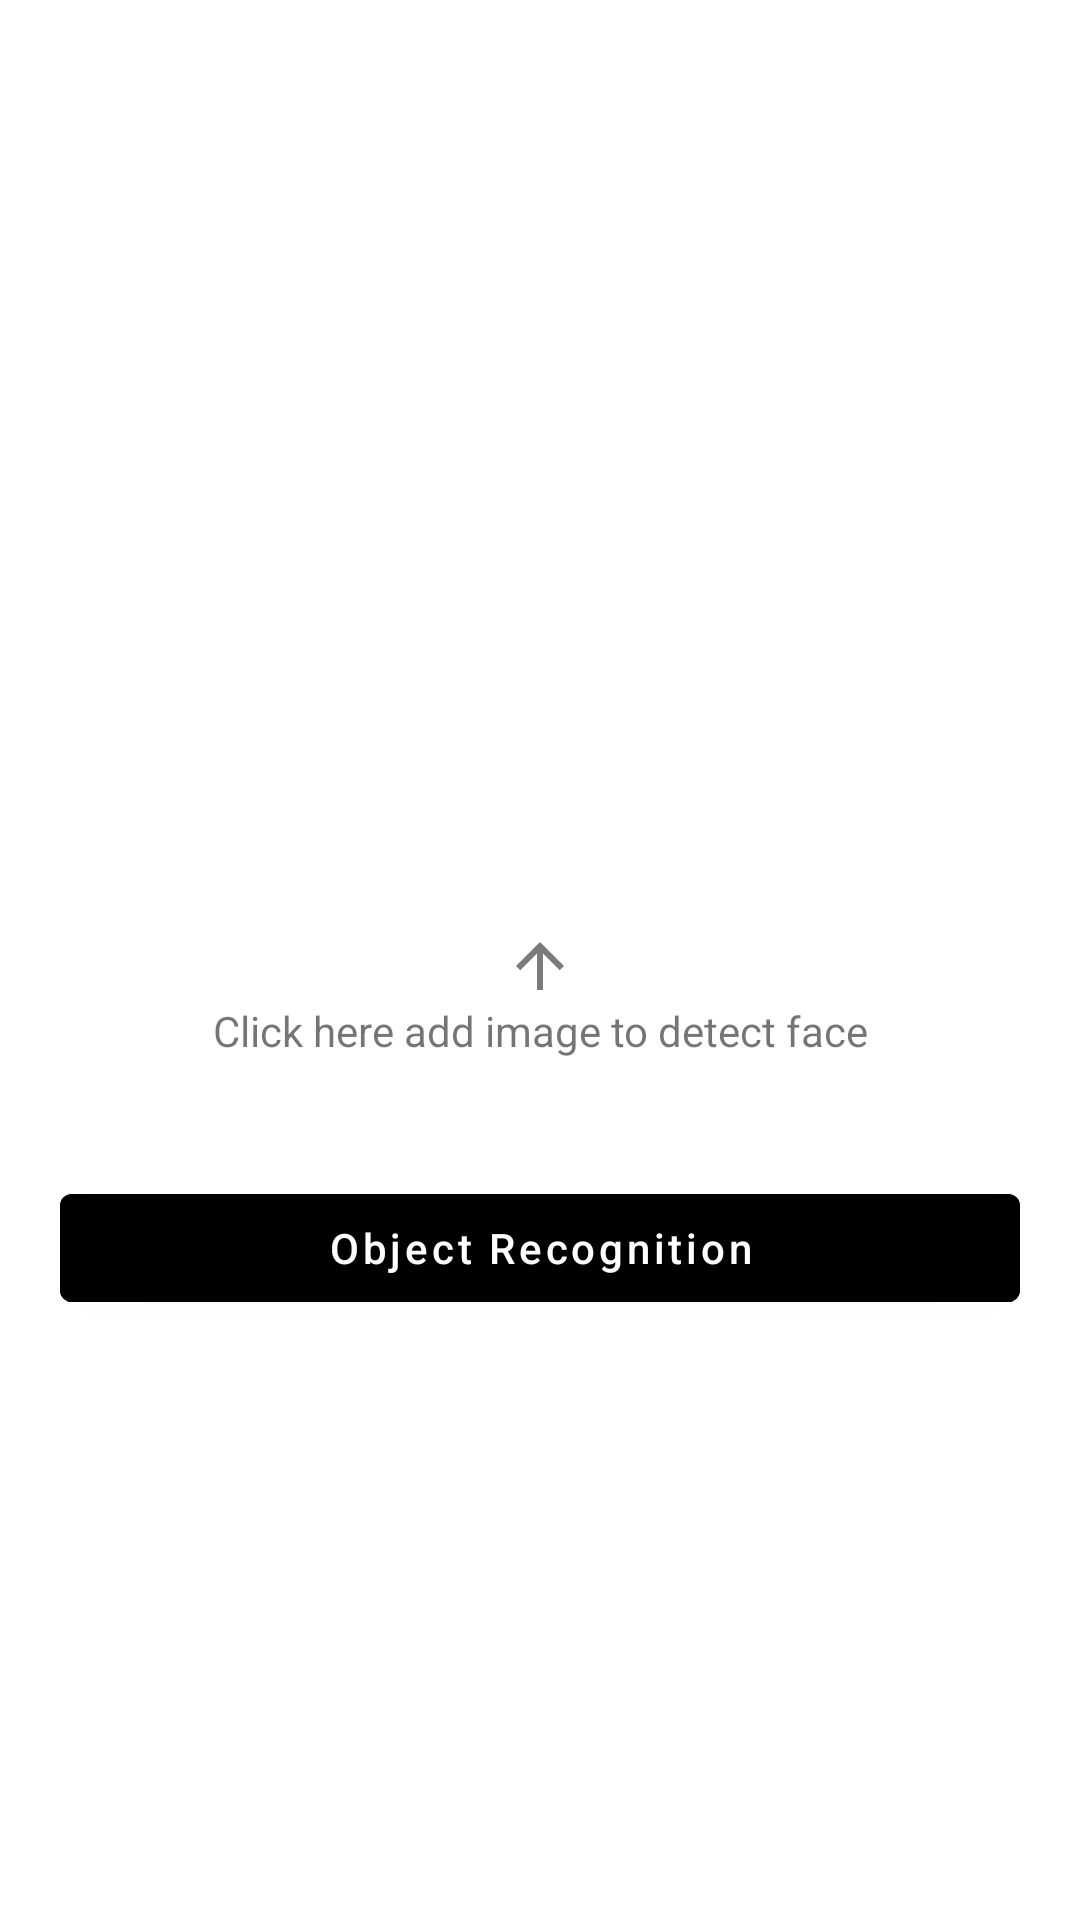

Screen size 1080*1920. Icon name, then its center in pixels as [x,y]:
arrow upward: [540,966]
